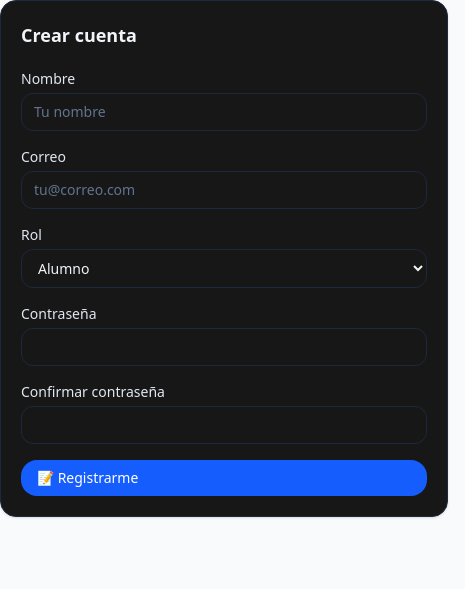
Test: 🧾 Register Form (actual) › ⚠️ muestra error si fetch devuelve error
Type "User Error" into the field labelled "Nombre".
click(224, 112); type("User Error")  # box [21,93,427,131]
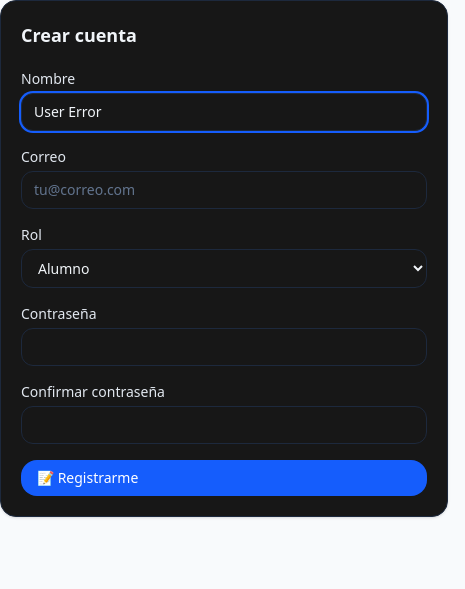
Type "bad@example.com" into the field labelled "Correo".
click(224, 190); type("bad@example.com")  # box [21,171,427,209]
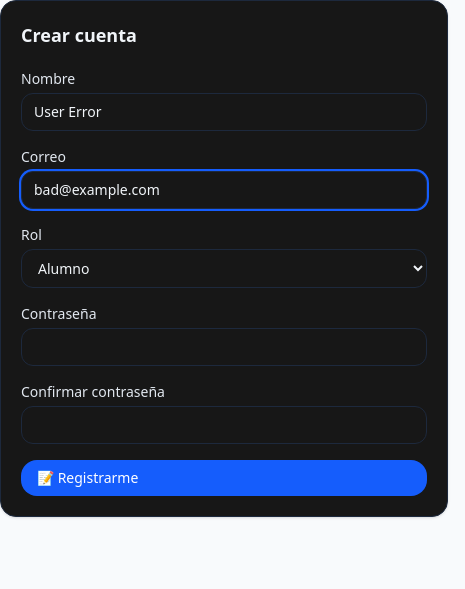
Type "123456" into the password field labelled "Contraseña".
click(224, 347); type("123456")  # box [21,328,427,366]
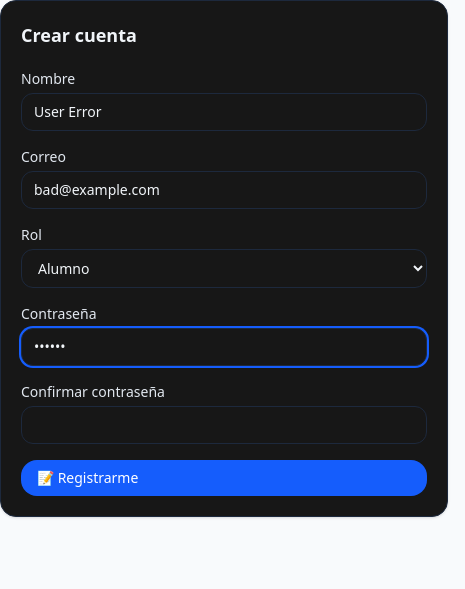
Type "123456" into the password field labelled "Confirmar contraseña".
click(224, 425); type("123456")  # box [21,406,427,444]
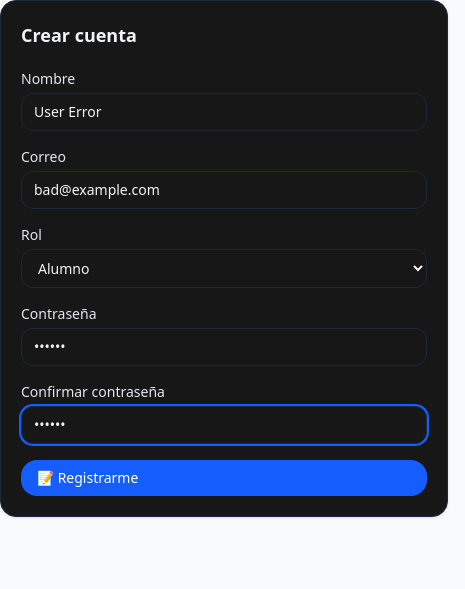
Click the button "📝 Registrarme".
click(88, 478)  # box [21,460,427,496]
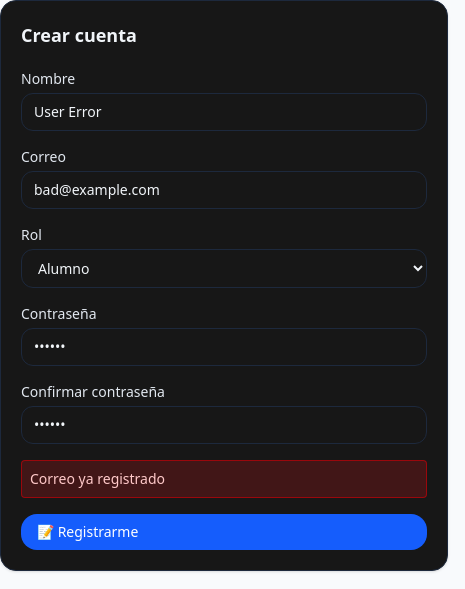
Check: the text "Correo ya registrado" is shown, box [21,460,427,498]
